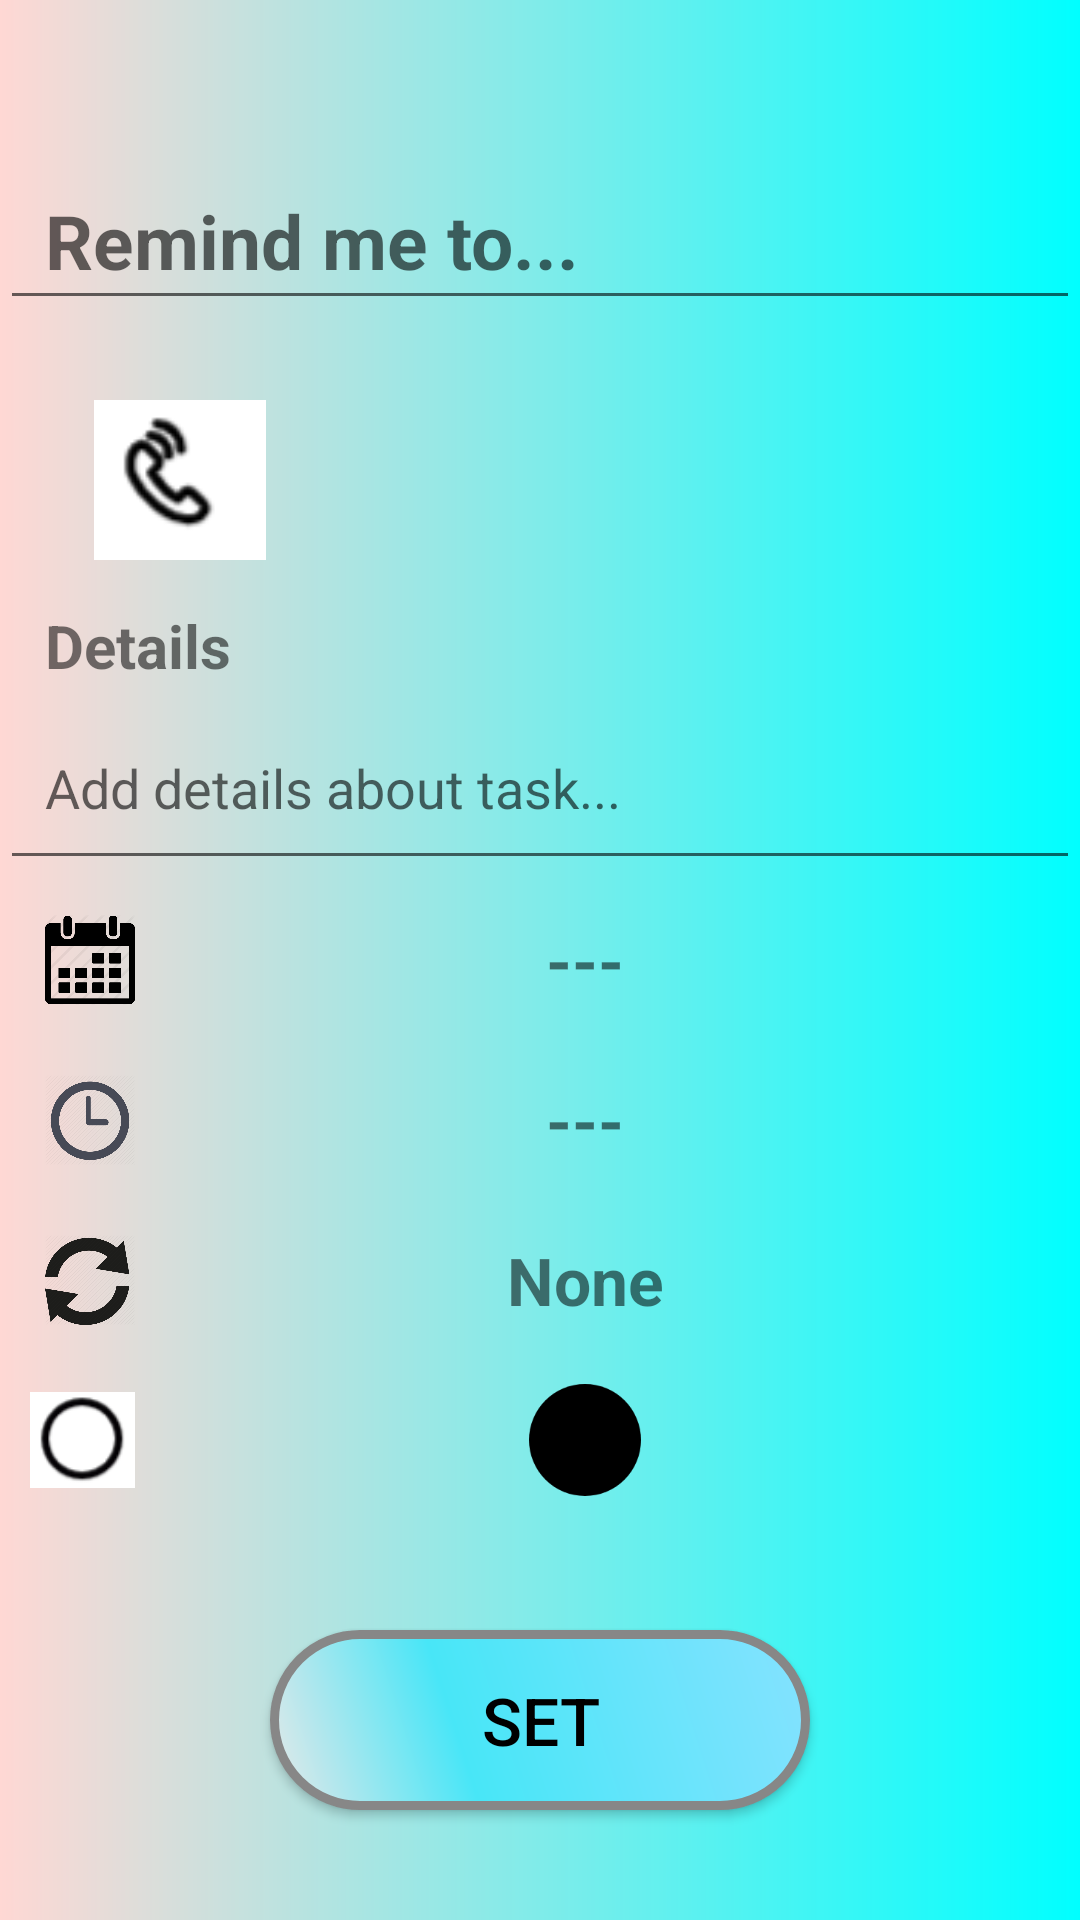

Icons on this 1080×1920 Android screen, each with the point to tap as [x,y]:
call: [180,480]
date: [67,960]
repeat: [67,1280]
time: [67,1120]
